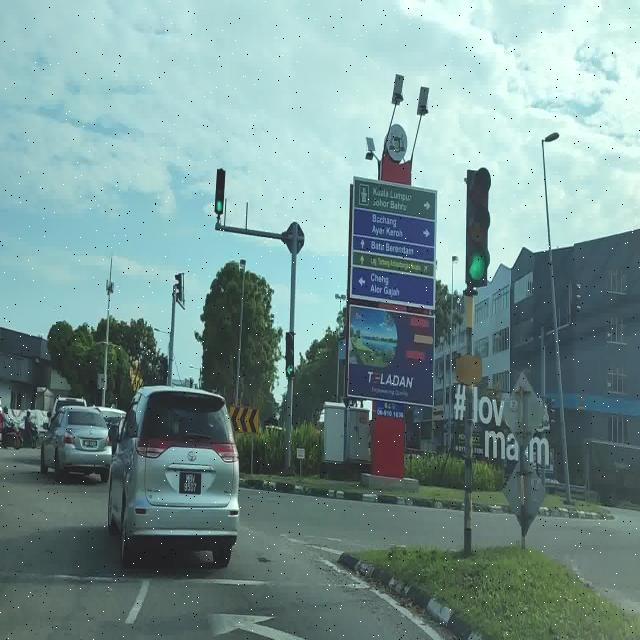green_light: (466, 168, 492, 286), (213, 167, 226, 215), (284, 332, 296, 377)
